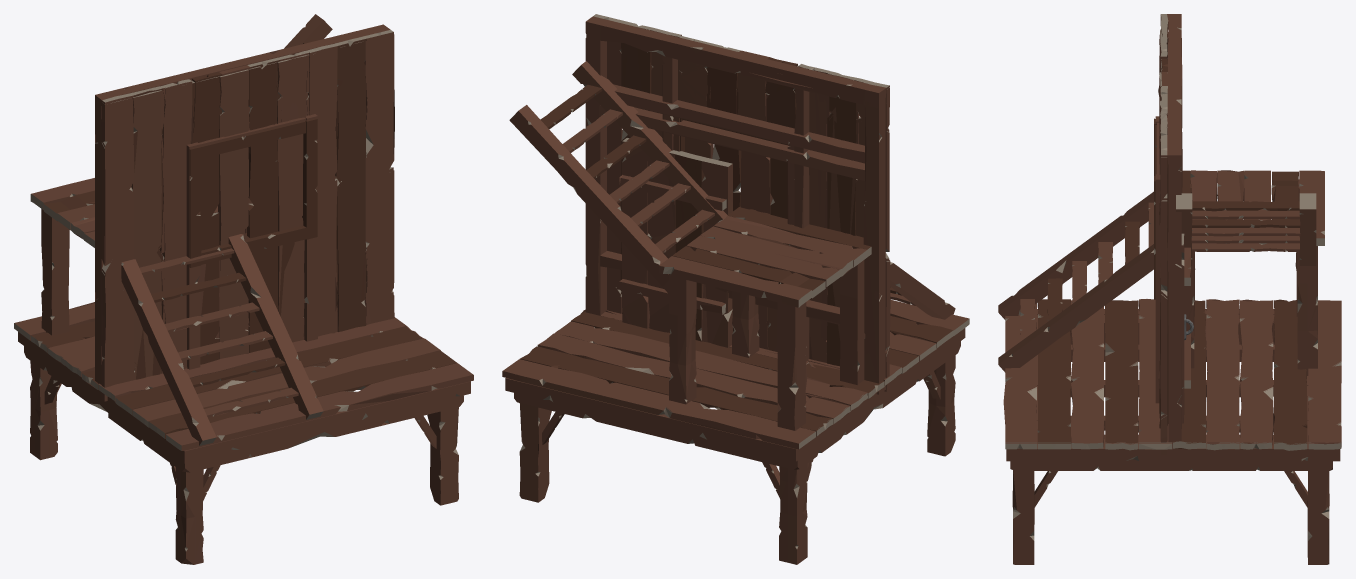
File: Wood Modular Building Kit.fbx
The picture shows the model from 3 angles, left to right: view 1: azimuth 30°, elevation 25°; view 2: azimuth 150°, elevation 25°; view 3: azimuth 270°, elevation 25°; orthographic projection.
Parts seen in each view (by area): view 1: Wood Wall, Wood Foundation, Wood Window, Wood Stair, Wood Doorway, Wood Floor; view 2: Wood Stair, Wood Foundation, Wood Wall, Wood Window, Wood Doorway, Wood Door, Wood Floor; view 3: Wood Foundation, Wood Stair, Wood Floor, Wood Window, Wood Doorway, Wood Wall, Wood Door.
Boxes of the visible parts, <box> form: Wood Wall: <box>95,34,394,401</box>; Wood Foundation: <box>14,300,472,564</box>; Wood Window: <box>95,24,394,395</box>; Wood Stair: <box>30,14,332,445</box>; Wood Doorway: <box>95,33,393,395</box>; Wood Floor: <box>18,317,473,463</box>; Wood Stair: <box>509,61,955,430</box>; Wood Foundation: <box>504,300,969,564</box>; Wood Wall: <box>586,26,890,391</box>; Wood Window: <box>585,14,889,394</box>; Wood Doorway: <box>585,23,889,394</box>; Wood Door: <box>619,138,732,347</box>; Wood Floor: <box>502,309,965,461</box>; Wood Foundation: <box>1005,299,1341,564</box>; Wood Stair: <box>998,170,1324,375</box>; Wood Floor: <box>1003,300,1341,461</box>; Wood Window: <box>1154,14,1182,452</box>; Wood Doorway: <box>1155,15,1182,451</box>; Wood Wall: <box>1158,17,1182,455</box>; Wood Door: <box>1181,233,1193,423</box>.
Size of the model in its own units: 2.6 by 3.44 by 2.59.
